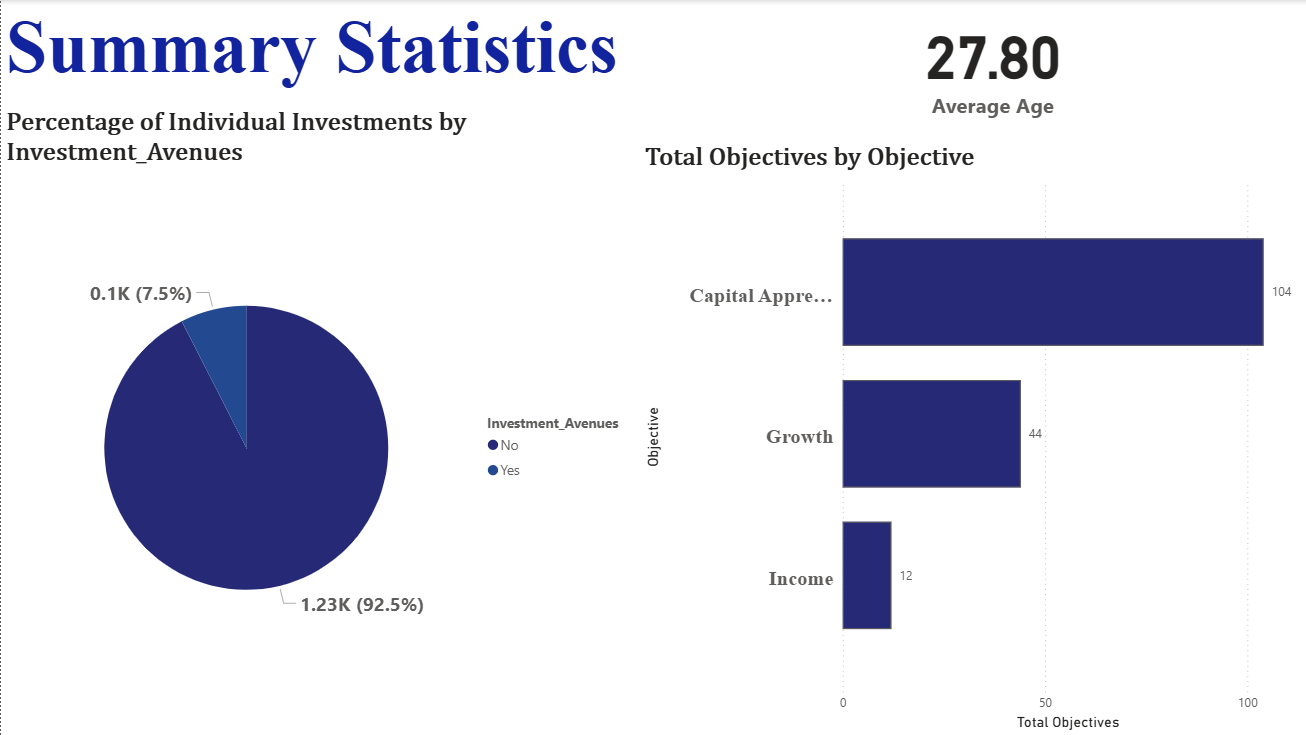

This screenshot's page, from the dashboard's own definition file:
{"tool":"powerbi","page":{"name":"Task 1 Visuals","canvas":[1280,720],"ordinal":0},"visuals":[{"type":"card","fields":{"Values":["Data_set 2.Average Age"]},"box":[676.1,0,588.7,125.4],"z":0},{"type":"pieChart","fields":{"Y":["Data_set 2.Percentage of Individual Investments"],"Category":["Data_set 2.Investment_Avenues"]},"box":[0,105,623.3,615],"z":1000},{"type":"clusteredBarChart","fields":{"Y":["Data_set 2.Total Objectives"],"Category":["Data_set 2.Objective"]},"box":[625.4,139.4,654.9,580.3],"z":2000},{"type":"textbox","box":[0,0,751.7,105],"z":3000}]}

Visuals, with their boxes in screenshot pixels (x1, y1, x2, y2), scaled from the page's 1280x720 canvas onto the 1306x735 screenshot:
card - Data_set 2.Average Age: [left=690, top=0, right=1290, bottom=128]
pieChart - Data_set 2.Percentage of Individual Investments x Data_set 2.Investment_Avenues: [left=0, top=107, right=636, bottom=734]
clusteredBarChart - Data_set 2.Total Objectives x Data_set 2.Objective: [left=638, top=142, right=1305, bottom=734]
textbox: [left=0, top=0, right=767, bottom=107]
